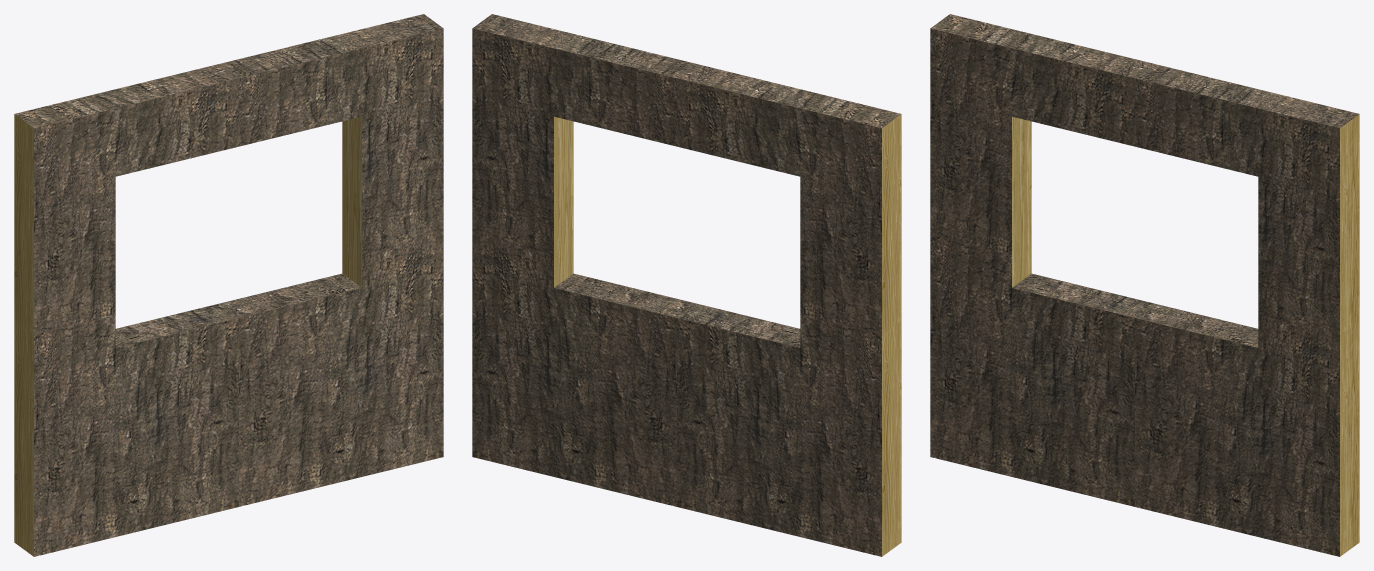
The model's file is construction_wood_wall_window_mesh_lod2.fbx.
3 views of the same model, side by side, from view 1: azimuth 30°, elevation 25°; view 2: azimuth 150°, elevation 25°; view 3: azimuth 330°, elevation 25° (orthographic).
Visible parts, largest first — view 1: construction_wood_wall_window_mesh; view 2: construction_wood_wall_window_mesh; view 3: construction_wood_wall_window_mesh.
Part boxes in pixels (x1,y1,x2,y2): construction_wood_wall_window_mesh: (14, 14, 443, 556); construction_wood_wall_window_mesh: (472, 14, 901, 556); construction_wood_wall_window_mesh: (930, 14, 1359, 556).
Size of the model in its own units: 300 by 300 by 25.
